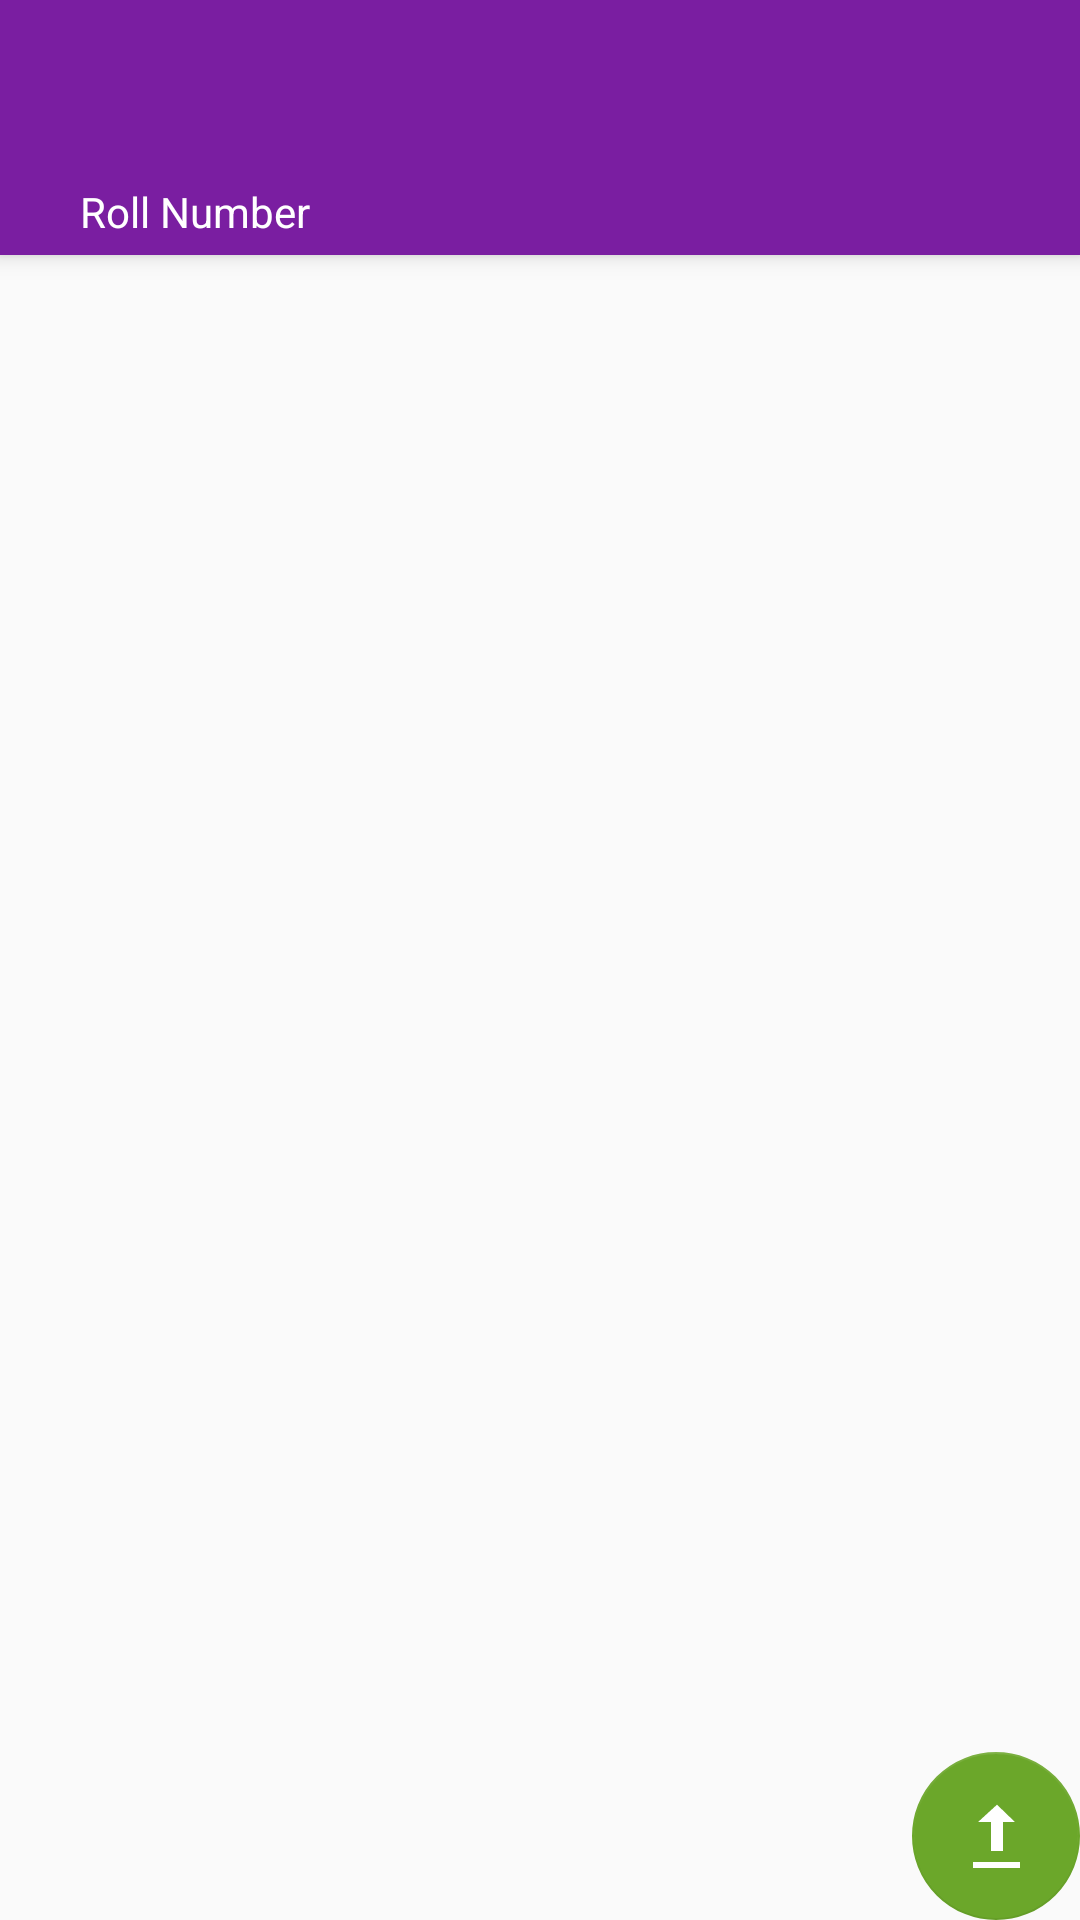

Icon bounding boxes for this 1080px×1920px phone screenshot, format bbox(x1, y1, x2, y2):
upload: bbox(912, 1752, 1080, 1920)
